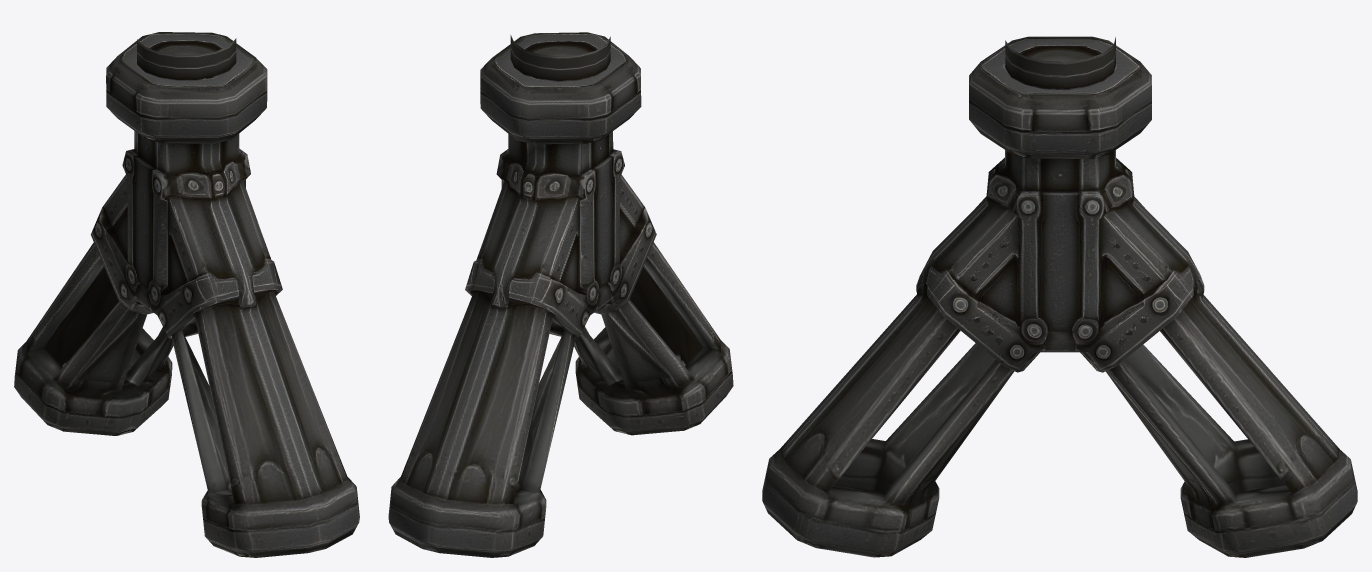
File: cold-iron-v2-joint-c-yoke.glb
3 renders of one model, left to right at view 1: azimuth 30°, elevation 25°; view 2: azimuth 150°, elevation 25°; view 3: azimuth 270°, elevation 25°, orthographic. The views are drawn at different scales.
Parts seen in each view (by area): view 1: tripo_node_d0cc645d-2a1b-44ad-92f5-b5e2c9b32b05; view 2: tripo_node_d0cc645d-2a1b-44ad-92f5-b5e2c9b32b05; view 3: tripo_node_d0cc645d-2a1b-44ad-92f5-b5e2c9b32b05.
Part boxes in pixels (x1,y1,x2,y2): tripo_node_d0cc645d-2a1b-44ad-92f5-b5e2c9b32b05: (14,32,359,557); tripo_node_d0cc645d-2a1b-44ad-92f5-b5e2c9b32b05: (388,32,733,557); tripo_node_d0cc645d-2a1b-44ad-92f5-b5e2c9b32b05: (762,36,1357,557).
Bounding box in the file's own units: 0.2754 × 0.9204 × 0.9981.
Materials: 1 (1 with a texture image).
